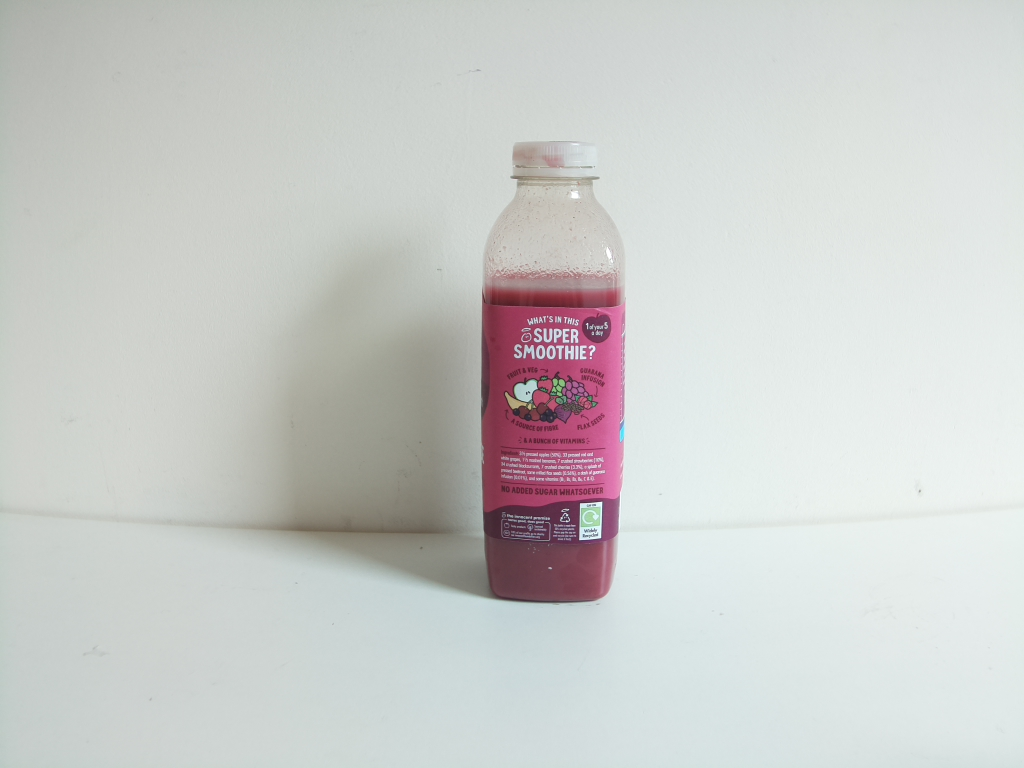juice: (470, 135, 631, 612)
